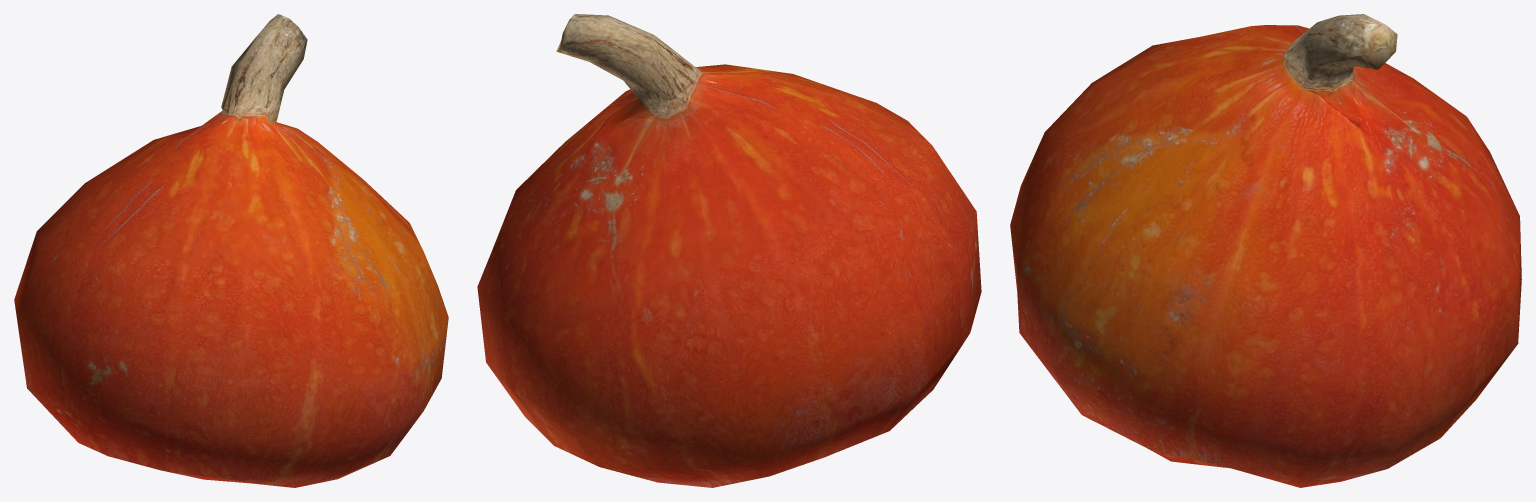
Rendered from A32_Pumpkin_low.fbx.
3 renders of one model, left to right at view 1: azimuth 30°, elevation 25°; view 2: azimuth 150°, elevation 25°; view 3: azimuth 270°, elevation 25°, orthographic. The views are drawn at different scales.
Parts seen in each view (by area): view 1: A32_Pumpkin_low; view 2: A32_Pumpkin_low; view 3: A32_Pumpkin_low.
Part boxes in pixels (bbox=[...]): A32_Pumpkin_low: bbox=[14, 14, 448, 487]; A32_Pumpkin_low: bbox=[477, 14, 981, 487]; A32_Pumpkin_low: bbox=[1010, 14, 1521, 487].
Bounding box in the file's own units: 19.34 × 19.12 × 19.09.
1 material, 1 textured.
